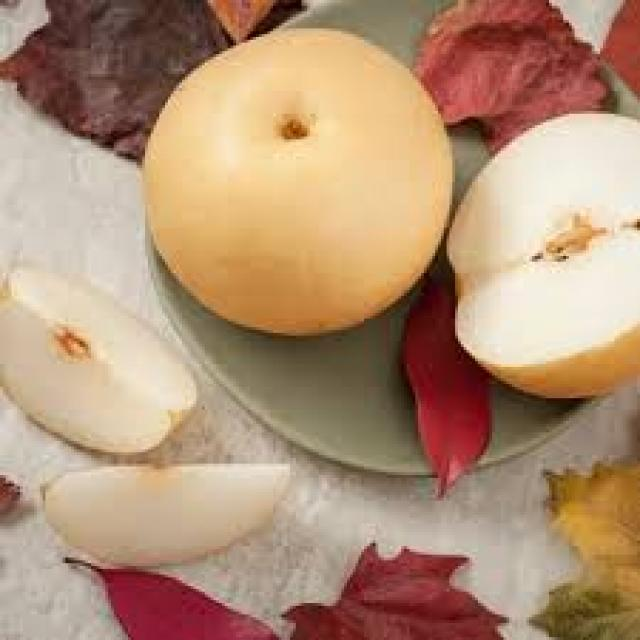Pear: (145, 28, 455, 337)
